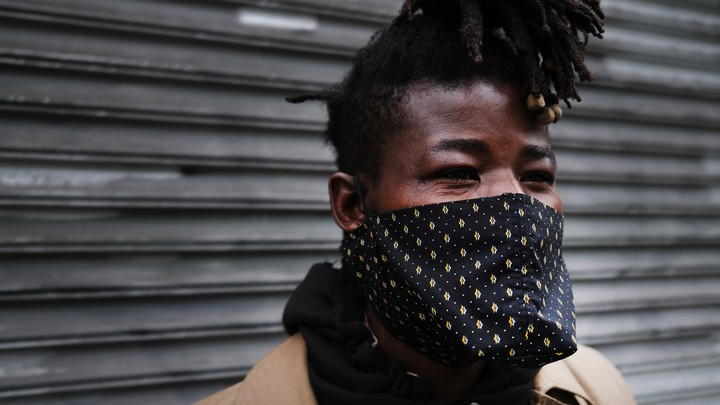with_mask: (311, 41, 628, 361)
